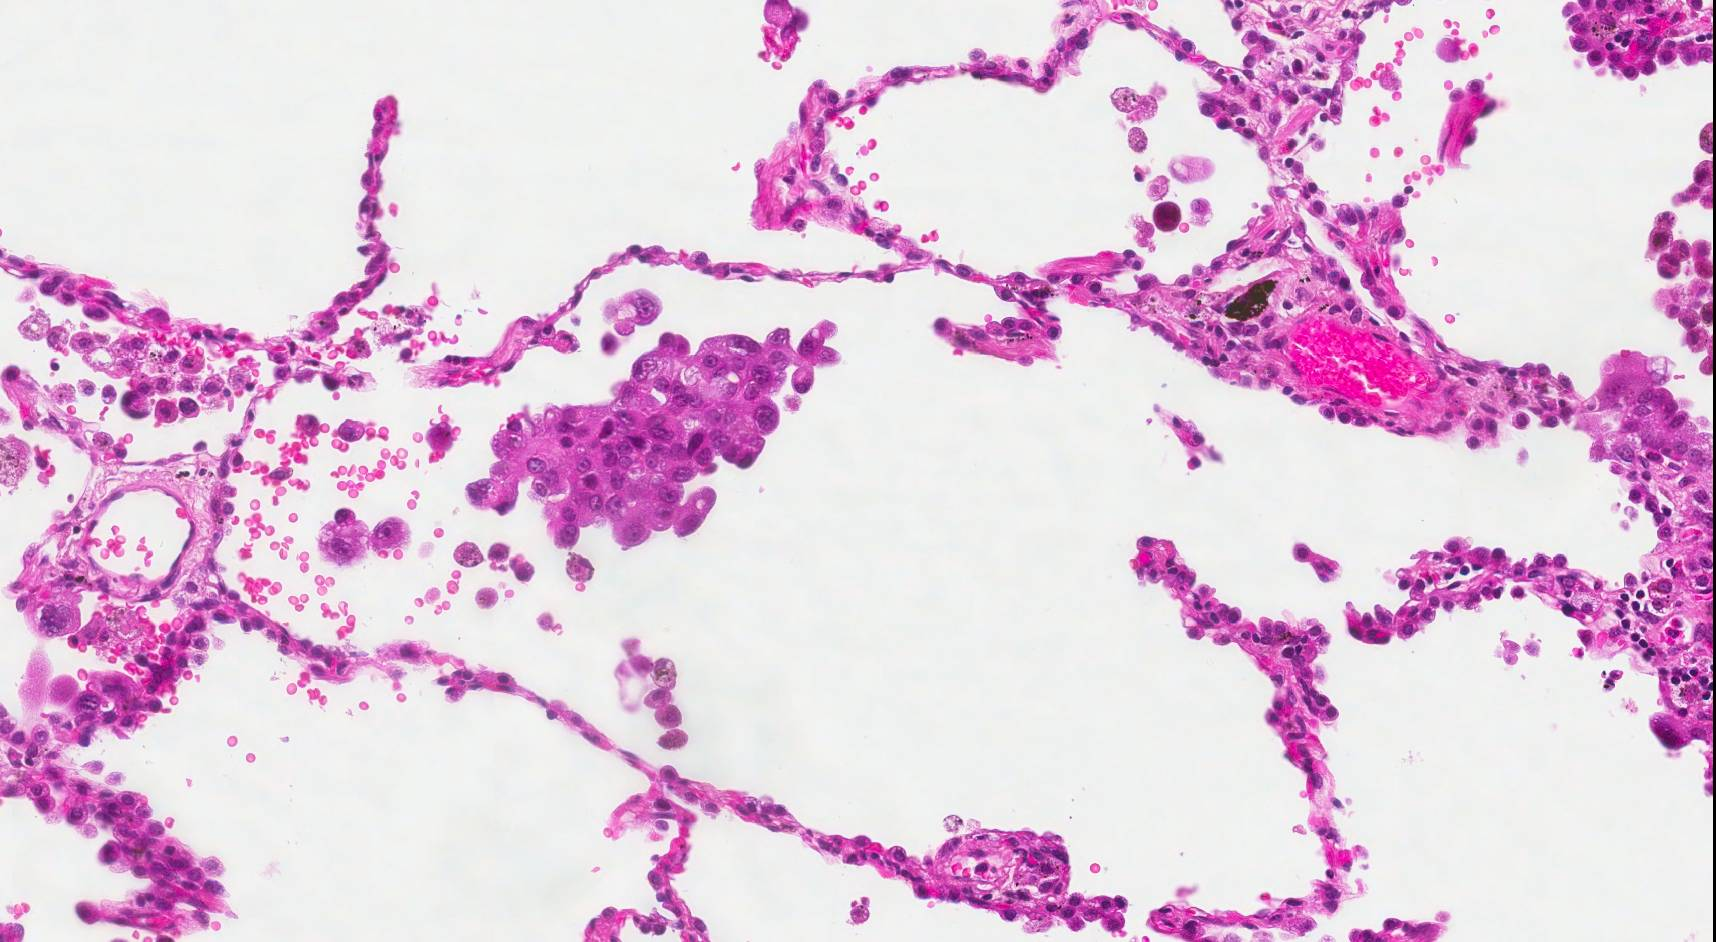stas: (457, 318, 838, 561), (317, 512, 412, 563), (602, 290, 657, 334)
